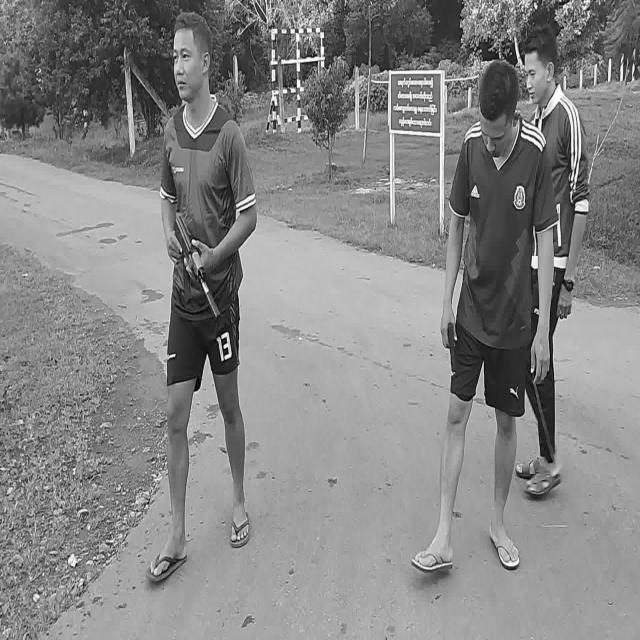gun: (175, 216, 220, 322), (448, 322, 456, 374)
